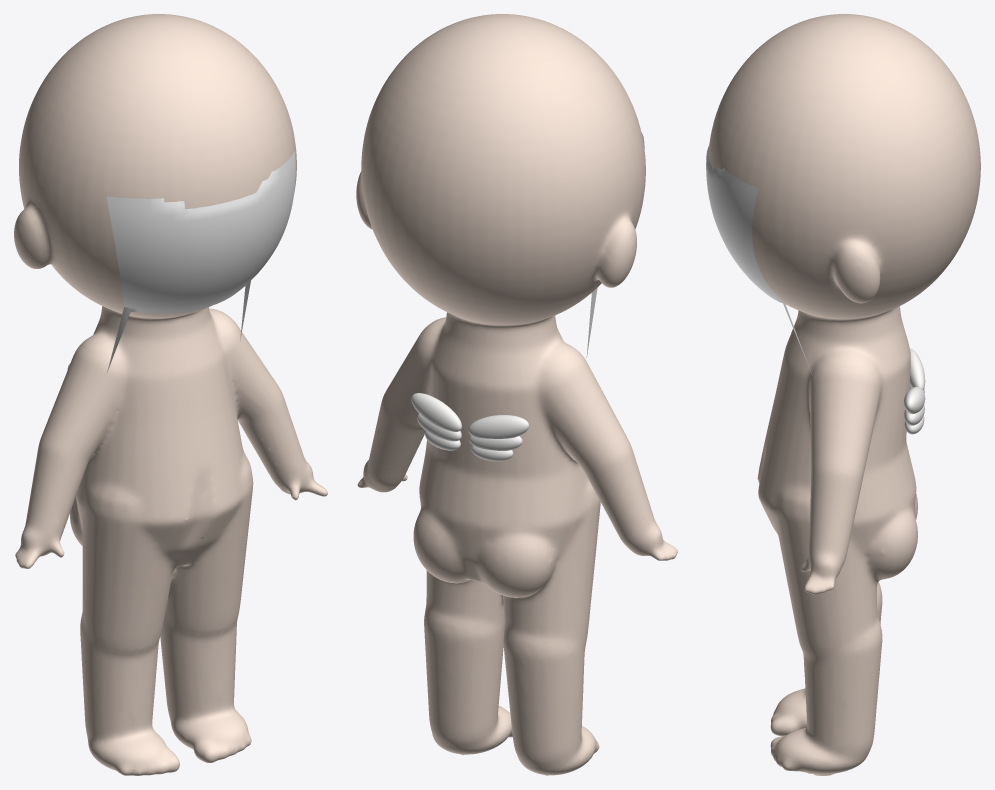
Rendered from base-angel.glb.
3 views of the same model, side by side, from view 1: azimuth 30°, elevation 25°; view 2: azimuth 150°, elevation 25°; view 3: azimuth 270°, elevation 25° (orthographic). The views are drawn at different scales.
Visible parts, largest first — view 1: AngelBody, FaceOverlay; view 2: AngelBody, AngelWings; view 3: AngelBody, FaceOverlay, AngelWings.
Boxes of the visible parts, bbox=[...] form: AngelBody: bbox=[14, 14, 327, 775]; FaceOverlay: bbox=[106, 151, 295, 372]; AngelBody: bbox=[356, 14, 677, 775]; AngelWings: bbox=[411, 393, 529, 461]; AngelBody: bbox=[708, 14, 980, 775]; FaceOverlay: bbox=[706, 145, 812, 375]; AngelWings: bbox=[903, 348, 925, 434].
Size of the model in its own units: 0.4437 by 1 by 0.3447.
